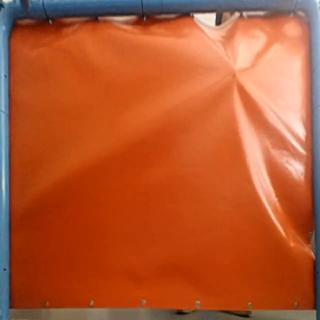Hit-hRxx: (227, 60, 246, 82)
